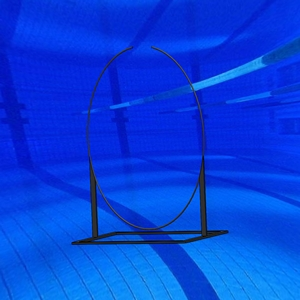circle: (72, 46, 229, 244)
